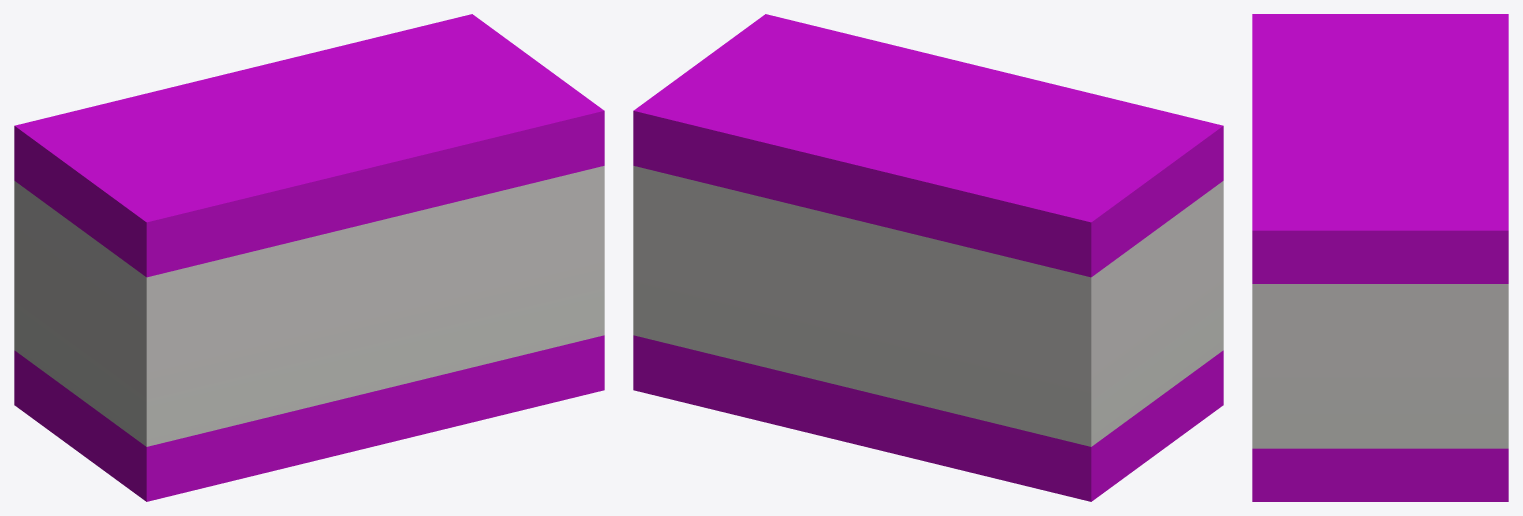
The model's file is Pfb_JLAB_Box.fbx.
3 renders of one model, left to right at view 1: azimuth 30°, elevation 25°; view 2: azimuth 150°, elevation 25°; view 3: azimuth 270°, elevation 25°, orthographic. The views are drawn at different scales.
Visible parts, largest first — view 1: Color; view 2: Color; view 3: Color.
Part boxes in pixels (x1=…): Color: x1=14, y1=14, x2=604, y2=501; Color: x1=633, y1=14, x2=1223, y2=501; Color: x1=1252, y1=14, x2=1508, y2=501.
Bounding box in the file's own units: 0.12 × 0.07 × 0.06.
1 material, 1 textured.
